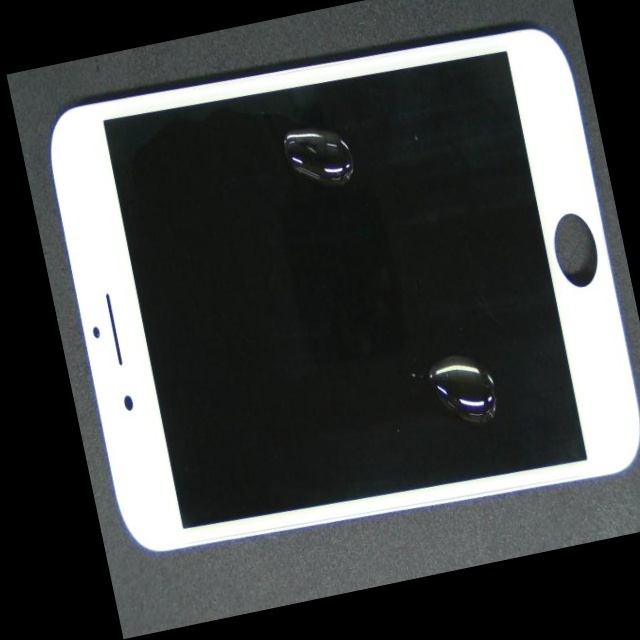oil: (258, 151, 640, 570), (203, 54, 503, 213)
